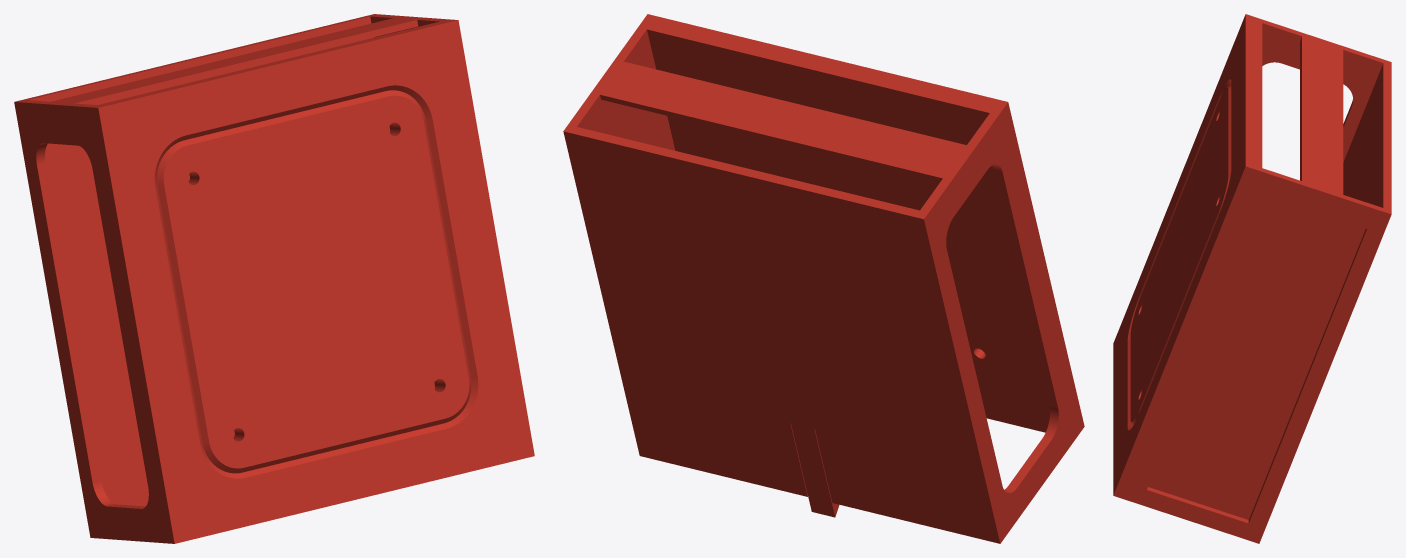
The model's file is EBoxNewAsm_stp_1_Beelink_mini_PC_v4_stp_1_MiniPCHolder_stp_1_solid1.obj.
3 renders of one model, left to right at view 1: azimuth 30°, elevation 25°; view 2: azimuth 150°, elevation 25°; view 3: azimuth 270°, elevation 25°, orthographic. The views are drawn at different scales.
Visible parts, largest first — view 1: mesh15783, mesh15796, mesh15762, mesh15774, mesh15755, mesh15780, mesh15753, mesh15788, mesh15795, mesh15792, mesh15784, mesh15798 (+3 smaller); view 2: mesh15761, mesh15747, mesh15755, mesh15774, mesh15751, mesh15776, mesh15752; view 3: mesh15772, mesh15767, mesh15755, mesh15783, mesh15796, mesh15762, mesh15773, mesh15770, mesh15787, mesh15797, mesh15768, mesh15792.
Part boxes in pixels (x1,y1,x2,y2): mesh15783: (163, 95, 469, 468); mesh15796: (98, 20, 534, 543); mesh15762: (29, 16, 435, 506); mesh15774: (14, 102, 174, 543); mesh15755: (14, 14, 457, 107); mesh15780: (37, 163, 101, 482); mesh15753: (75, 20, 418, 104); mesh15788: (426, 120, 477, 377); mesh15795: (157, 185, 208, 442); mesh15792: (243, 423, 446, 477); mesh15784: (185, 91, 388, 145); mesh15798: (184, 86, 386, 139); mesh15761: (563, 131, 1000, 543); mesh15747: (647, 29, 1049, 432); mesh15755: (563, 14, 1007, 219); mesh15774: (924, 102, 1084, 543); mesh15751: (577, 29, 675, 150); mesh15776: (994, 170, 1057, 407); mesh15752: (600, 95, 942, 182); mesh15772: (1148, 195, 1365, 519); mesh15767: (1113, 166, 1391, 543); mesh15755: (1245, 14, 1391, 214); mesh15783: (1130, 87, 1228, 421); mesh15796: (1113, 14, 1245, 494); mesh15762: (1343, 64, 1383, 207); mesh15773: (1262, 23, 1383, 161); mesh15770: (1248, 228, 1366, 523); mesh15787: (1140, 213, 1219, 407); mesh15797: (1141, 99, 1219, 293); mesh15768: (1147, 487, 1248, 523); mesh15792: (1127, 340, 1132, 426).
Bounding box in the file's own units: 0.123 × 0.1478 × 0.095.
